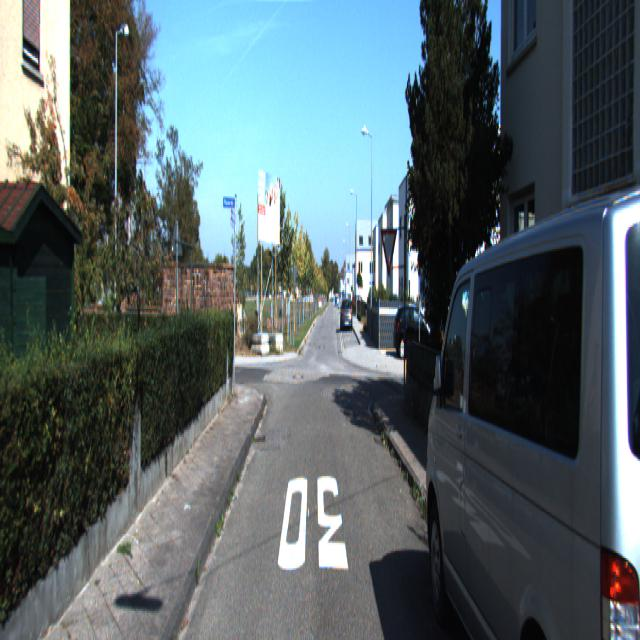Car: (423, 120, 640, 638), (393, 299, 440, 361), (341, 297, 352, 331)
